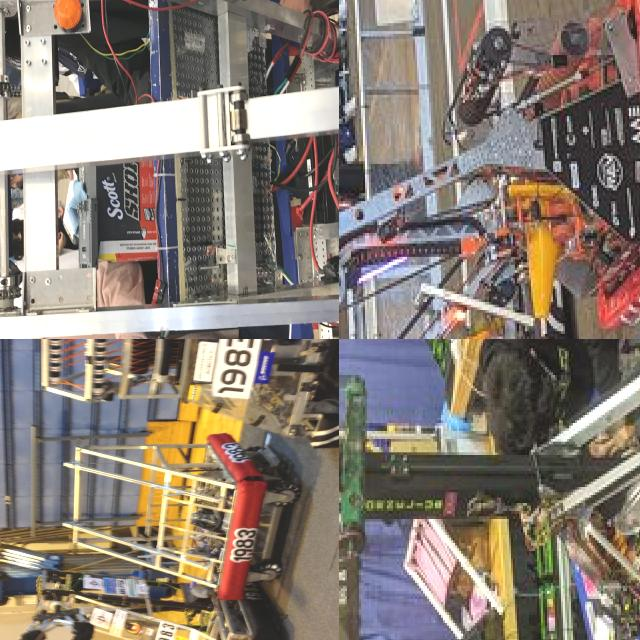FRC-Robots: (0, 0, 339, 339), (339, 0, 640, 339), (339, 339, 640, 640), (57, 418, 299, 602), (26, 339, 339, 451), (339, 193, 570, 339), (0, 536, 284, 640)
